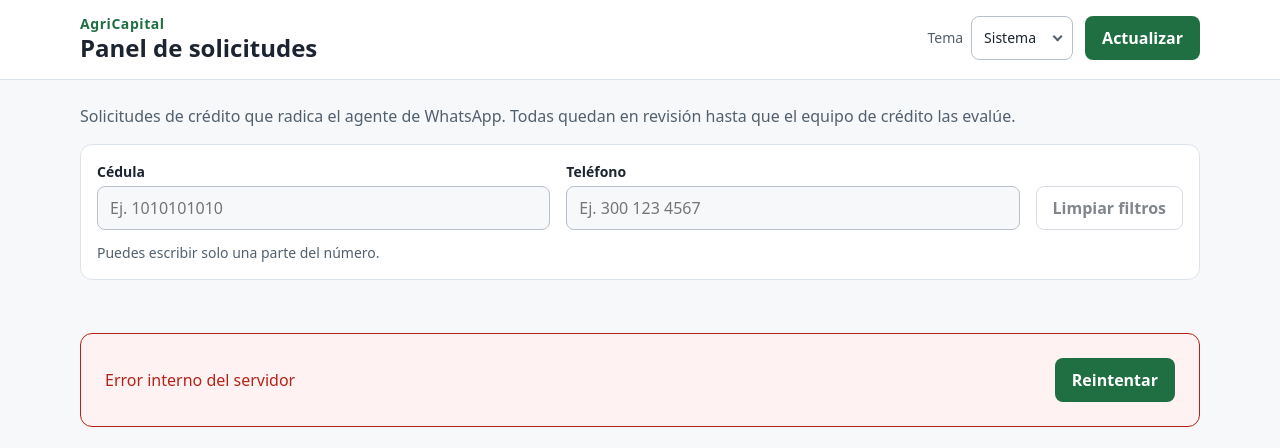
Scenario: Panel de solicitudes › muestra el error de la API y permite reintentar
Later steps or results of the test are not shown.
Check: the message shows "Error interno del servidor", box [105, 369, 295, 391]
Click the button "Reintentar": (1115, 380) [1055, 358, 1175, 402]
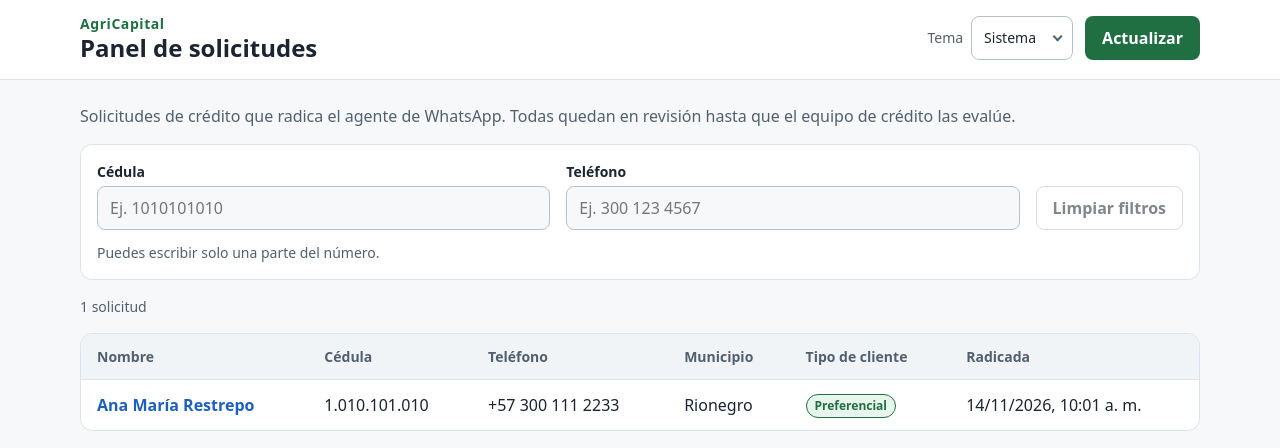
Check: the text "Cargando solicitudes…" is shown, box [80, 297, 147, 316]
Check: the message "Error interno del servidor Reintentar" is gone
Check: the table is shown, box [81, 334, 1199, 430]
